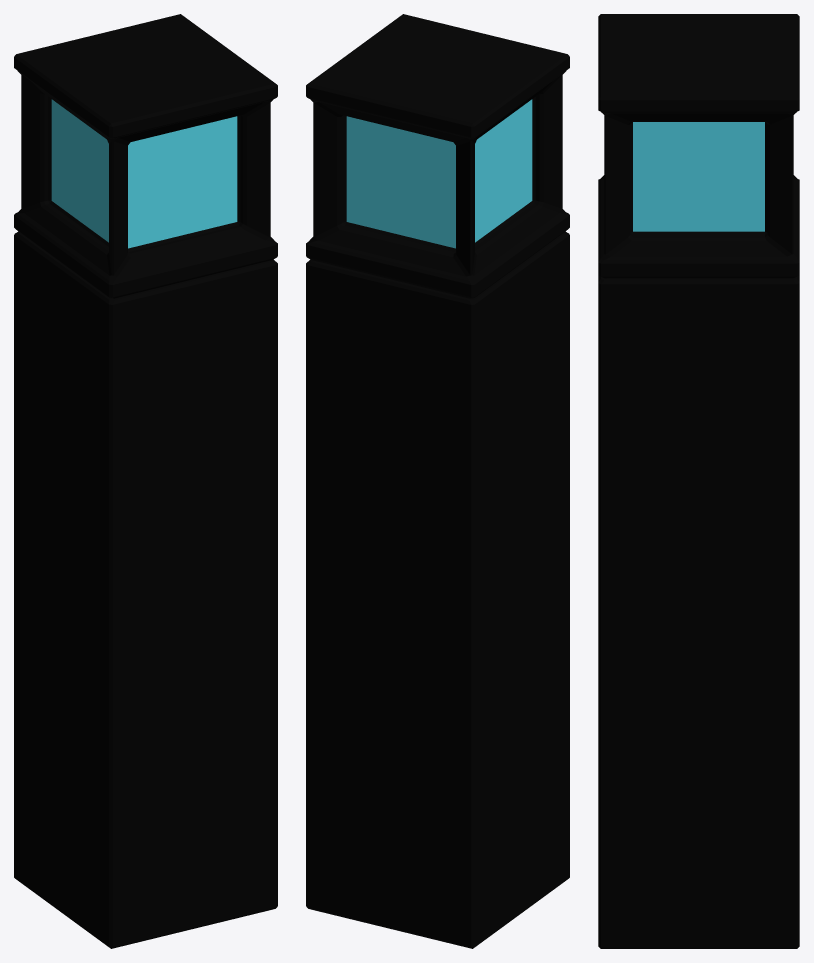
File: SM_ExteriorFloor_001.FBX
The picture shows the model from 3 angles, left to right: view 1: azimuth 30°, elevation 25°; view 2: azimuth 150°, elevation 25°; view 3: azimuth 270°, elevation 25°; orthographic projection. The views are drawn at different scales.
Visible parts, largest first — view 1: SM_ExteriorFloor_001; view 2: SM_ExteriorFloor_001; view 3: SM_ExteriorFloor_001.
Boxes of the visible parts, x1,y1,x2,y2 form: SM_ExteriorFloor_001: (14, 14, 277, 948); SM_ExteriorFloor_001: (306, 14, 569, 948); SM_ExteriorFloor_001: (598, 14, 799, 948).
Size of the model in its own units: 10.76 by 10.76 by 50.24.
